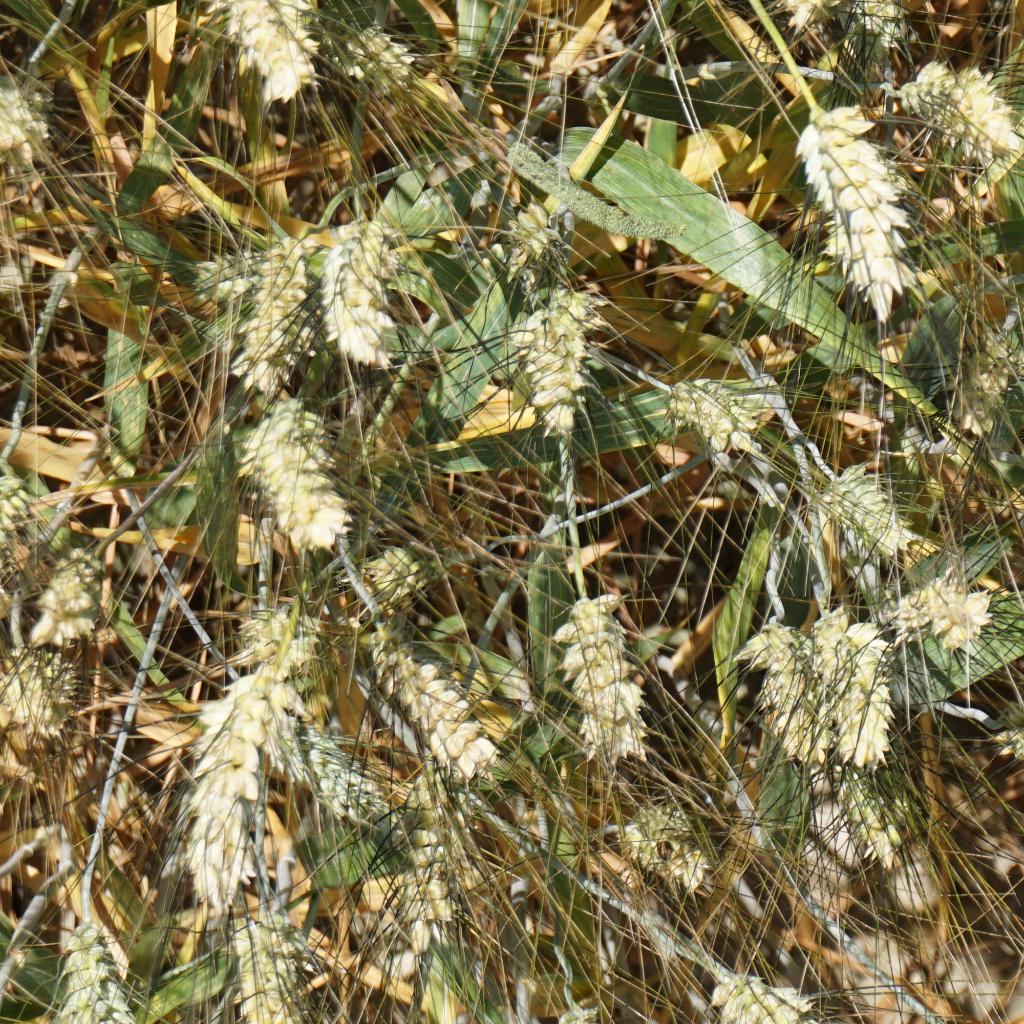0-0: (787, 86, 930, 329), (184, 657, 290, 911), (230, 393, 378, 561), (355, 615, 499, 771), (546, 570, 659, 766), (508, 268, 619, 442), (819, 604, 928, 764), (222, 226, 320, 382), (736, 608, 826, 771), (314, 203, 401, 356), (201, 0, 339, 96), (235, 592, 342, 714), (911, 62, 1024, 175), (403, 763, 470, 945), (654, 371, 768, 474), (287, 719, 384, 837), (932, 323, 1024, 438), (184, 231, 296, 323), (619, 793, 719, 891), (233, 905, 311, 1024), (811, 465, 907, 555), (55, 923, 138, 1024), (36, 548, 120, 647), (0, 645, 88, 738), (493, 186, 585, 269), (901, 563, 990, 640), (335, 14, 420, 94), (832, 0, 918, 73), (838, 772, 910, 852), (695, 966, 792, 1024), (358, 537, 433, 602), (0, 94, 62, 166), (1000, 689, 1024, 783), (768, 0, 854, 26), (551, 1001, 603, 1024)
